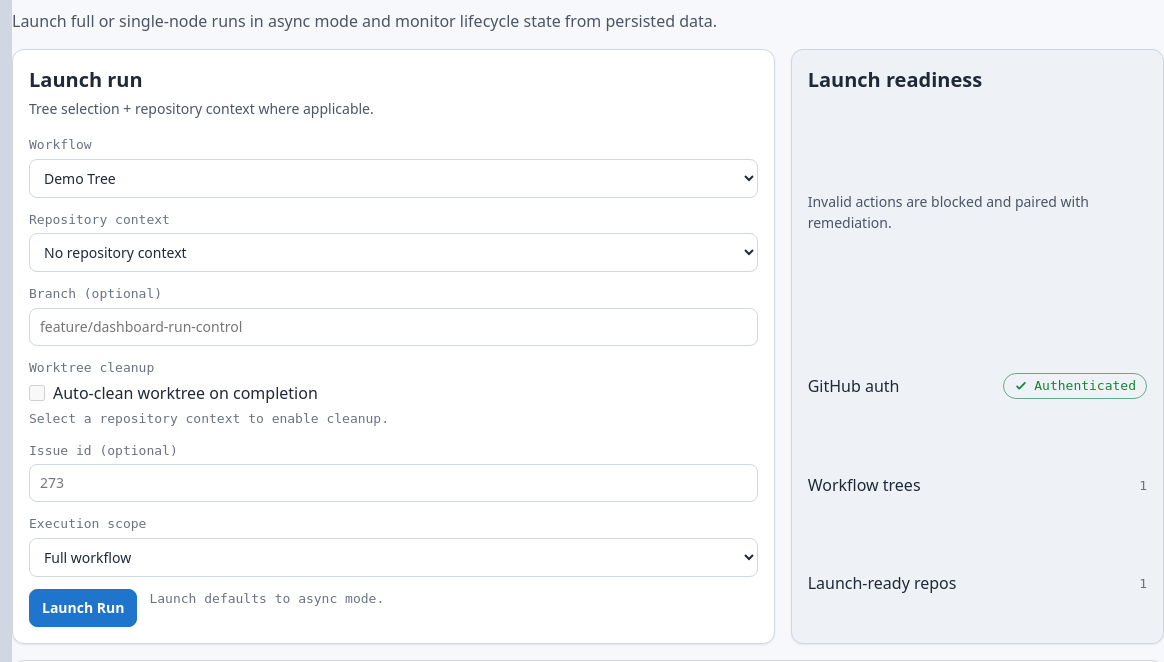
RunsPage › disables launch when single-node node_key selector has no available nodes
The width and height of the screenshot is (1164, 662).
Step 1. Select "Single node" in the dropdown labelled "Execution scope" → [393, 557], box x1=29 y1=538 x2=758 y2=576
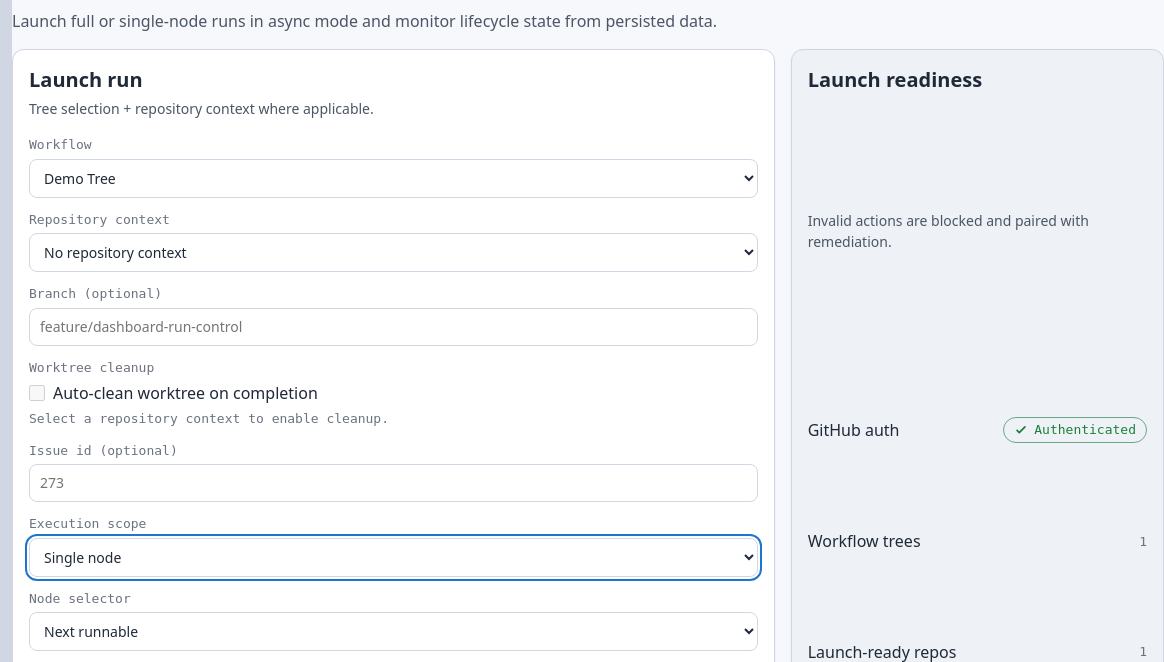
Step 2. Select "Node key" in the dropdown labelled "Node selector" → [393, 632], box x1=29 y1=612 x2=758 y2=651
(page scrolled)
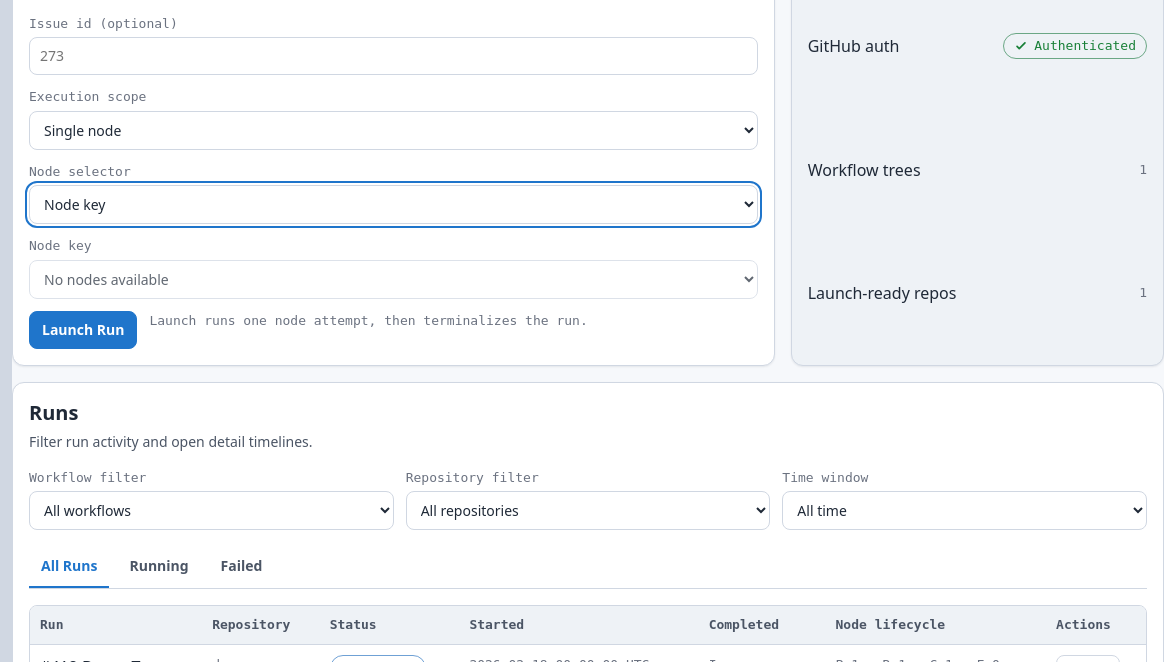
Expected: the dropdown labelled "Node key" is disabled, x1=29 y1=260 x2=758 y2=298
Expected: the button "Launch Run" is disabled, x1=29 y1=310 x2=137 y2=348
